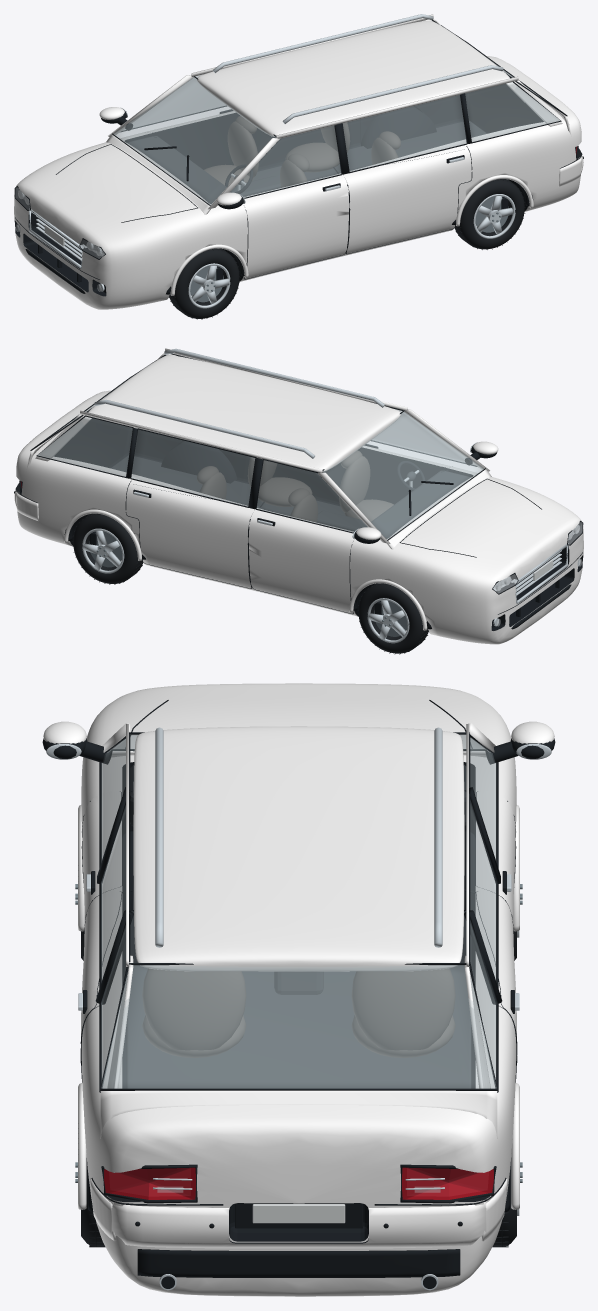
Rendered from estate.glb.
The picture shows the model from 3 angles, top to bottom: view 1: azimuth 30°, elevation 25°; view 2: azimuth 150°, elevation 25°; view 3: azimuth 270°, elevation 25°; orthographic projection. The views are drawn at different scales.
Parts seen in each view (by area): view 1: Original station_wagon fourteen-section body shell, Crowned roof pressing, Raked transparent windscreen, Separate closed door panel.001, Separate closed door panel, Rear door transparent glass, Front door transparent glass, Extended rear quarter glazing, Separate closed door panel.002, Interior carpet, Original tyre carcass and shaped sidewalls.002, Original tyre carcass and shaped sidewalls (+24 smaller); view 2: Original station_wagon fourteen-section body shell, Crowned roof pressing, Raked transparent windscreen, Separate closed door panel.003, Separate closed door panel.002, Rear door transparent glass.001, Front door transparent glass.001, Extended rear quarter glazing.001, Separate closed door panel, Interior carpet, Original tyre carcass and shaped sidewalls.003, Original tyre carcass and shaped sidewalls.001 (+25 smaller); view 3: Crowned roof pressing, Original station_wagon fourteen-section body shell, Rear transparent hatch glass, Interior carpet, Formed painted rear bumper cover, Sculpted rear lower bumper insert, Painted rear glass sill, Contoured seat back.002, Contoured seat back.003, Separate closed door panel.002, Separate closed door panel, Separate closed door panel.001 (+27 smaller).
Part boxes in pixels (left/top/right/bottom): Original station_wagon fourteen-section body shell: left=14, top=56, right=581, bottom=309; Crowned roof pressing: left=197, top=20, right=509, bottom=136; Raked transparent windscreen: left=114, top=77, right=275, bottom=204; Separate closed door panel.001: left=343, top=149, right=471, bottom=253; Separate closed door panel: left=243, top=174, right=349, bottom=278; Rear door transparent glass: left=343, top=95, right=466, bottom=171; Front door transparent glass: left=230, top=125, right=340, bottom=197; Extended rear quarter glazing: left=465, top=82, right=560, bottom=141; Separate closed door panel.002: left=145, top=111, right=239, bottom=169; Interior carpet: left=253, top=121, right=486, bottom=181; Original tyre carcass and shaped sidewalls.002: left=455, top=179, right=524, bottom=249; Original tyre carcass and shaped sidewalls: left=170, top=248, right=239, bottom=318; Original station_wagon fourteen-section body shell: left=16, top=390, right=583, bottom=644; Crowned roof pressing: left=88, top=355, right=400, bottom=471; Raked transparent windscreen: left=323, top=411, right=484, bottom=539; Separate closed door panel.003: left=126, top=484, right=254, bottom=588; Separate closed door panel.002: left=248, top=509, right=354, bottom=613; Rear door transparent glass.001: left=131, top=429, right=255, bottom=506; Front door transparent glass.001: left=256, top=460, right=367, bottom=532; Extended rear quarter glazing.001: left=38, top=417, right=132, bottom=476; Separate closed door panel: left=358, top=445, right=452, bottom=504; Interior carpet: left=111, top=455, right=345, bottom=515; Original tyre carcass and shaped sidewalls.003: left=73, top=513, right=142, bottom=583; Original tyre carcass and shaped sidewalls.001: left=358, top=583, right=427, bottom=653; Crowned roof pressing: left=133, top=726, right=464, bottom=971; Original station_wagon fourteen-section body shell: left=81, top=683, right=516, bottom=1296; Rear transparent hatch glass: left=101, top=965, right=496, bottom=1088; Interior carpet: left=126, top=911, right=471, bottom=1088; Formed painted rear bumper cover: left=111, top=1201, right=486, bottom=1248; Sculpted rear lower bumper insert: left=137, top=1249, right=460, bottom=1277; Painted rear glass sill: left=100, top=1090, right=497, bottom=1138; Contoured seat back.002: left=142, top=968, right=246, bottom=1050; Contoured seat back.003: left=351, top=968, right=455, bottom=1050; Separate closed door panel.002: left=471, top=791, right=515, bottom=986; Separate closed door panel: left=82, top=791, right=126, bottom=986; Separate closed door panel.001: left=81, top=891, right=126, bottom=1088.
Size of the model in its own units: 4.79 by 1.56 by 2.16.
13 materials, 11 textured.
